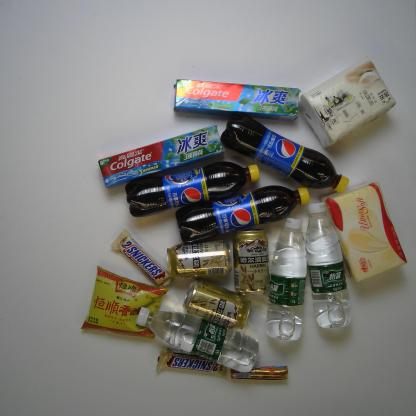Alcohol: (181, 277, 254, 332), (165, 235, 236, 283), (229, 224, 273, 298)
Candy: (229, 362, 290, 383)
Chocolate: (107, 227, 178, 290), (153, 345, 231, 382)
Drink: (217, 109, 352, 195), (173, 182, 313, 248), (134, 304, 261, 375), (123, 159, 263, 219), (303, 199, 354, 330), (264, 214, 310, 344)
Personal Hygiene: (94, 122, 227, 193), (171, 76, 302, 124)
Seasoner: (78, 264, 172, 340)
Tissue: (316, 177, 409, 286), (299, 53, 399, 152)
